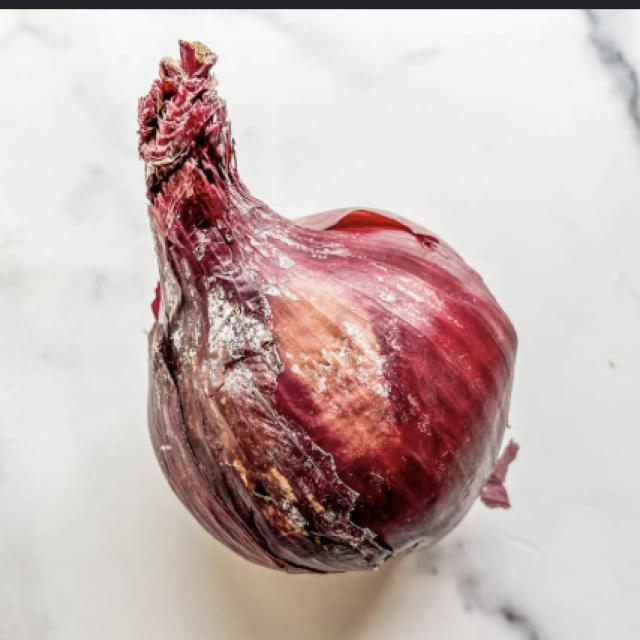mechanical_damage: (139, 41, 516, 571)
